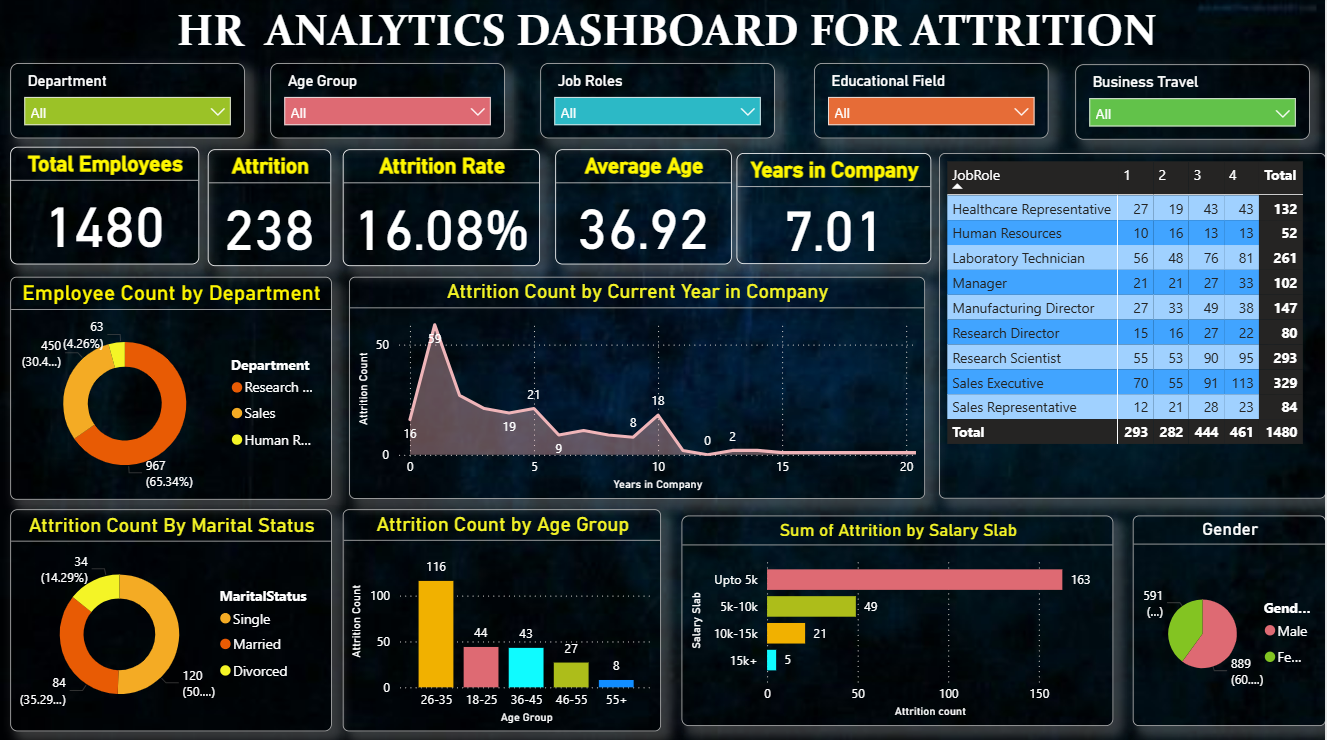

Layout of this report page (visuals, bound fields, positions):
{"tool":"powerbi","page":{"name":"Page 1","canvas":[1280,720],"ordinal":0},"visuals":[{"type":"textbox","box":[166,0,979.8,63.1],"z":0},{"type":"card","title":"Total Employees","fields":{"Values":["Sum(HR_Analytics.EmployeeCount)"]},"box":[10.9,143.6,182.2,113.4],"z":1000},{"type":"card","title":"Attrition","fields":{"Values":["Sum(HR_Analytics.Attrition_count)"]},"box":[201.7,145.5,119.4,112.5],"z":2000},{"type":"card","title":"Attrition Rate","fields":{"Values":["HR_Analytics.Attrition Percentage"]},"box":[332.1,145.5,190.7,112.5],"z":3000},{"type":"card","title":"Average Age","fields":{"Values":["Avg(HR_Analytics.Age)"]},"box":[536.9,146,170.1,111],"z":4000},{"type":"card","title":"Years in Company","fields":{"Values":["Avg(HR_Analytics.YearsAtCompany)"]},"box":[711.8,149.6,188.2,107.4],"z":5000},{"type":"donutChart","title":"Employee Count by Department","fields":{"Y":["CountNonNull(HR_Analytics.EmployeeCount)"],"Category":["HR_Analytics.Department"]},"box":[11,269,310.1,215.4],"z":6000},{"type":"donutChart","title":"Attrition Count By Marital Status","fields":{"Y":["Sum(HR_Analytics.Attrition_count)"],"Category":["HR_Analytics.MaritalStatus"]},"box":[11,494,310.1,214.1],"z":7000},{"type":"columnChart","title":" Attrition Count by Age Group","fields":{"Category":["HR_Analytics.AgeGroup"],"Y":["Sum(HR_Analytics.Attrition_count)"]},"box":[332.1,494,307.4,214.1],"z":8000},{"type":"barChart","title":"Sum of Attrition by Salary Slab","fields":{"Category":["HR_Analytics.SalarySlab"],"Y":["Sum(HR_Analytics.Attrition_count)"]},"box":[658.7,499.5,417.2,203.1],"z":9000},{"type":"areaChart","title":" Attrition Count by Current Year in Company","fields":{"Category":["HR_Analytics.YearsAtCompany"],"Y":["Sum(HR_Analytics.Attrition_count)"]},"box":[337.6,269,555.7,214.1],"z":10000},{"type":"pivotTable","fields":{"Rows":["HR_Analytics.JobRole"],"Columns":["HR_Analytics.JobSatisfaction"],"Values":["Sum(HR_Analytics.EmployeeCount)"]},"box":[907,149.6,373.2,333.4],"z":11000},{"type":"pieChart","title":"Gender","fields":{"Category":["HR_Analytics.Gender"],"Y":["CountNonNull(HR_Analytics.Gender)"]},"box":[1093.7,499.5,186.6,203.1],"z":12000},{"type":"slicer","fields":{"Values":["HR_Analytics.Department"]},"box":[11,63.1,226.4,72.7],"z":13000},{"type":"slicer","fields":{"Values":["HR_Analytics.AgeGroup"]},"box":[262.1,63.1,226.4,72.7],"z":14000},{"type":"slicer","fields":{"Values":["HR_Analytics.JobRole"]},"box":[522.8,63.1,226.4,72.7],"z":15000},{"type":"slicer","fields":{"Values":["HR_Analytics.EducationField"]},"box":[786.3,63.1,226.4,72.7],"z":16000},{"type":"slicer","fields":{"Values":["HR_Analytics.BusinessTravel"]},"box":[1038.8,64.5,226.4,72.7],"z":17000}]}

Visuals, with their boxes in screenshot pixels (x1, y1, x2, y2), scaled from the page's 1280x720 canvas onto the 1327x740 screenshot:
textbox: detection(172, 0, 1188, 65)
"Total Employees" card: detection(11, 148, 200, 264)
"Attrition" card: detection(209, 150, 333, 265)
"Attrition Rate" card: detection(344, 150, 542, 265)
"Average Age" card: detection(557, 150, 733, 264)
"Years in Company" card: detection(738, 154, 933, 264)
"Employee Count by Department" donutChart: detection(11, 276, 333, 498)
"Attrition Count By Marital Status" donutChart: detection(11, 508, 333, 728)
" Attrition Count by Age Group" columnChart: detection(344, 508, 663, 728)
"Sum of Attrition by Salary Slab" barChart: detection(683, 513, 1115, 722)
" Attrition Count by Current Year in Company" areaChart: detection(350, 276, 926, 497)
pivotTable - HR_Analytics.JobRole x HR_Analytics.JobSatisfaction: detection(940, 154, 1326, 496)
"Gender" pieChart: detection(1134, 513, 1326, 722)
slicer - HR_Analytics.Department: detection(11, 65, 246, 140)
slicer - HR_Analytics.AgeGroup: detection(272, 65, 506, 140)
slicer - HR_Analytics.JobRole: detection(542, 65, 777, 140)
slicer - HR_Analytics.EducationField: detection(815, 65, 1050, 140)
slicer - HR_Analytics.BusinessTravel: detection(1077, 66, 1312, 141)
